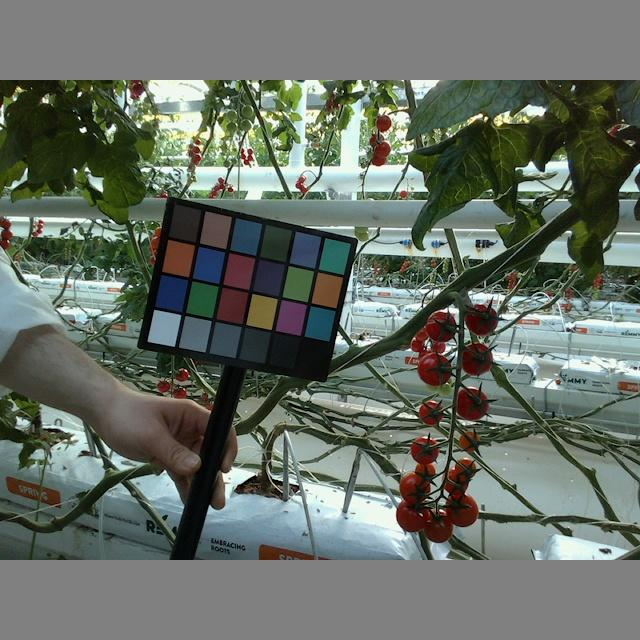red: (452, 388, 493, 420), (418, 507, 454, 543), (462, 301, 499, 336), (459, 340, 494, 374), (397, 471, 432, 505), (397, 497, 430, 533), (416, 353, 450, 385), (407, 433, 442, 464), (445, 495, 478, 526), (424, 312, 457, 342), (443, 470, 473, 500), (417, 399, 446, 427), (412, 461, 437, 485), (458, 430, 482, 453), (452, 459, 477, 478)
